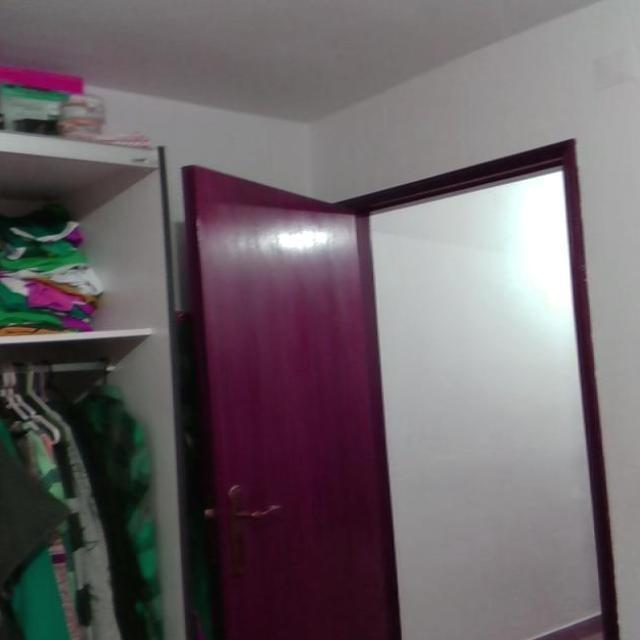door: (180, 163, 402, 638)
